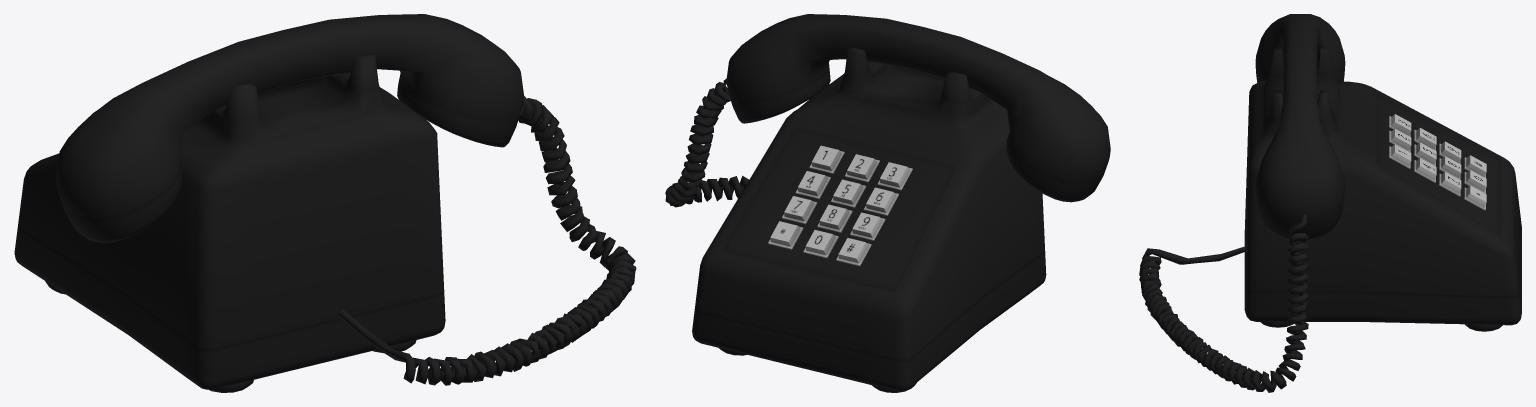
Rendered from phone_01.fbx.
3 views of the same model, side by side, from view 1: azimuth 30°, elevation 25°; view 2: azimuth 150°, elevation 25°; view 3: azimuth 270°, elevation 25° (orthographic). The views are drawn at different scales.
Parts seen in each view (by area): view 1: phone_01, phone_01_receiver, phone_01_wire; view 2: phone_01, phone_01_receiver, phone_01_wire; view 3: phone_01, phone_01_receiver, phone_01_wire.
Part boxes in pixels (x1=…): phone_01: x1=14, y1=52, x2=445, y2=392; phone_01_receiver: x1=56, y1=14, x2=523, y2=243; phone_01_wire: x1=339, y1=96, x2=636, y2=385; phone_01: x1=692, y1=46, x2=1046, y2=392; phone_01_receiver: x1=726, y1=14, x2=1110, y2=202; phone_01_wire: x1=665, y1=78, x2=748, y2=207; phone_01: x1=1244, y1=45, x2=1521, y2=331; phone_01_receiver: x1=1255, y1=14, x2=1345, y2=240; phone_01_wire: x1=1139, y1=214, x2=1309, y2=392.
Bounding box in the file's own units: 45.05 × 25.04 × 36.51.
